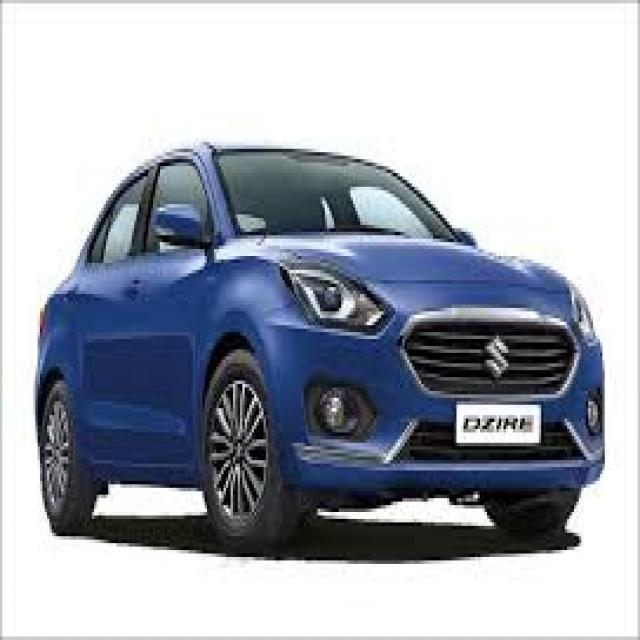Car: (30, 135, 608, 564)
